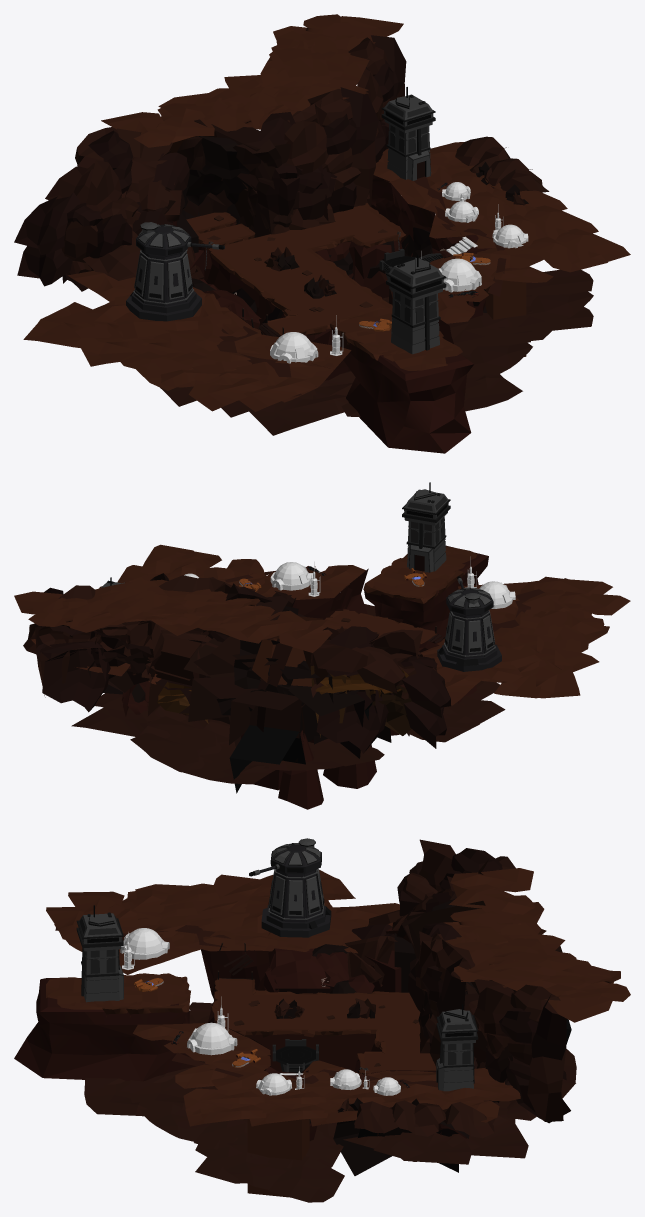
File: Room_3.fbx
The picture shows the model from 3 angles, top to bottom: view 1: azimuth 30°, elevation 25°; view 2: azimuth 150°, elevation 25°; view 3: azimuth 270°, elevation 25°; orthographic projection. The views are drawn at different scales.
Visible parts, largest first — view 1: Map1, Central, Tower_Surveillance, Parte_Inferior, Tower_Surveillance2, Parte_Superior, House4, House2, Little1, Little2, House3; view 2: Map1, Tower_Surveillance, Parte_Inferior, Central, Parte_Superior, House2, House4; view 3: Map1, Central, Parte_Inferior, Tower_Surveillance, Tower_Surveillance2, Parte_Superior, House2, House4, Torre, Antenna, House3, House.
Part boxes in pixels (left/top/right/bottom): Map1: left=14, top=14, right=630, bottom=453; Central: left=206, top=203, right=406, bottom=380; Tower_Surveillance: left=386, top=255, right=446, bottom=354; Parte_Inferior: left=126, top=249, right=201, bottom=321; Tower_Surveillance2: left=381, top=87, right=435, bottom=180; Parte_Superior: left=136, top=222, right=224, bottom=256; House4: left=270, top=332, right=318, bottom=363; House2: left=438, top=258, right=481, bottom=292; Little1: left=197, top=223, right=255, bottom=281; Little2: left=186, top=212, right=236, bottom=234; House3: left=492, top=224, right=528, bottom=248; Map1: left=14, top=544, right=630, bottom=809; Tower_Surveillance: left=402, top=482, right=450, bottom=572; Parte_Inferior: left=437, top=610, right=501, bottom=671; Central: left=148, top=609, right=436, bottom=742; Parte_Superior: left=446, top=576, right=493, bottom=615; House2: left=270, top=562, right=312, bottom=590; House4: left=479, top=581, right=515, bottom=608; Map1: left=14, top=839, right=630, bottom=1202; Central: left=208, top=978, right=436, bottom=1074; Parte_Inferior: left=261, top=869, right=331, bottom=937; Tower_Surveillance: left=76, top=905, right=123, bottom=1002; Tower_Surveillance2: left=436, top=1004, right=478, bottom=1091; Parte_Superior: left=249, top=838, right=321, bottom=876; House2: left=187, top=1022, right=237, bottom=1055; House4: left=120, top=928, right=169, bottom=959; Torre: left=272, top=1039, right=318, bottom=1072; Antenna: left=122, top=932, right=369, bottom=1089; House3: left=256, top=1073, right=291, bottom=1095; House: left=330, top=1069, right=361, bottom=1089.
Size of the model in its own units: 91.23 by 33.88 by 88.76.
